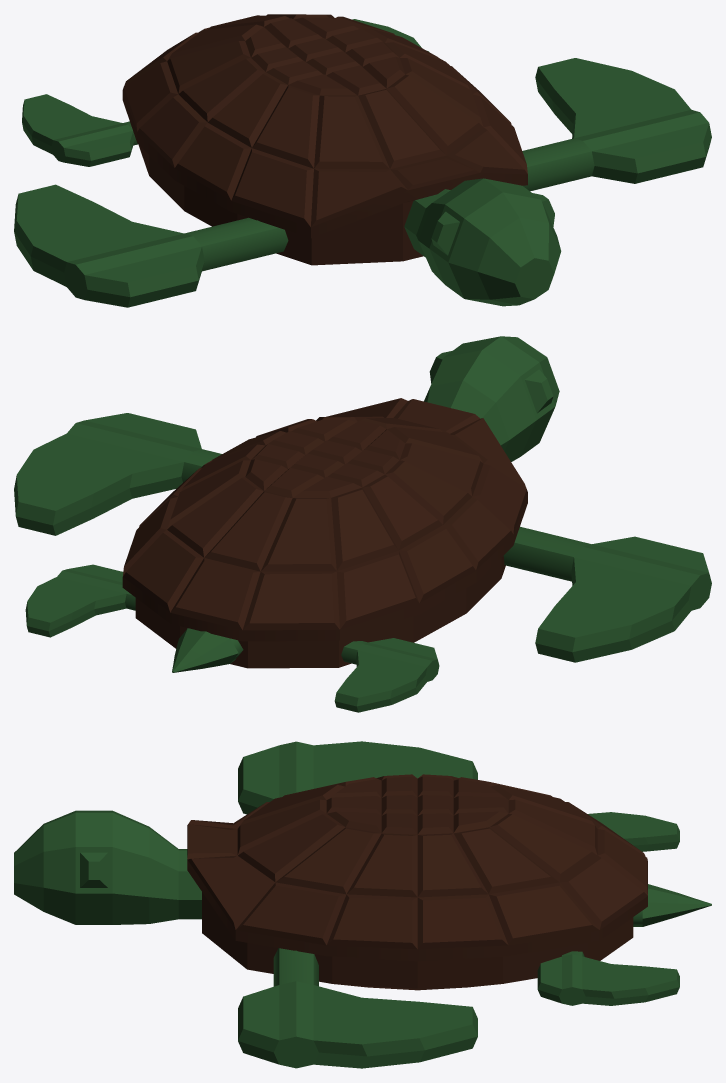
Rendered from Turtle.fbx.
3 views of the same model, one above another, from view 1: azimuth 30°, elevation 25°; view 2: azimuth 150°, elevation 25°; view 3: azimuth 270°, elevation 25° (orthographic). The views are drawn at different scales.
Parts seen in each view (by area): view 1: Turtle_Shell, Turtle_FrontFlipper, Turtle_Head, Turtle_BackFlipper; view 2: Turtle_Shell, Turtle_FrontFlipper, Turtle_BackFlipper, Turtle_Head, Turtle_Tail; view 3: Turtle_Shell, Turtle_FrontFlipper, Turtle_Head, Turtle_BackFlipper, Turtle_Tail.
Boxes of the visible parts, x1,y1,x2,y2 form: Turtle_Shell: (122, 14, 527, 265); Turtle_FrontFlipper: (14, 58, 711, 307); Turtle_Head: (404, 178, 561, 306); Turtle_BackFlipper: (22, 19, 428, 166); Turtle_Shell: (122, 398, 527, 668); Turtle_FrontFlipper: (14, 413, 711, 662); Turtle_BackFlipper: (25, 564, 439, 712); Turtle_Head: (424, 336, 559, 461); Turtle_Tail: (172, 628, 243, 672); Turtle_Shell: (187, 774, 647, 990); Turtle_FrontFlipper: (238, 741, 477, 1068); Turtle_Head: (14, 810, 201, 924); Turtle_BackFlipper: (537, 812, 679, 1005); Turtle_Tail: (633, 884, 711, 926).
Size of the model in its own units: 59.08 by 13.57 by 57.52.
